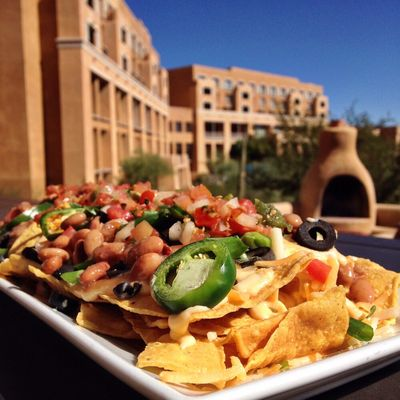burger: (296, 120, 378, 236)
sandwich: (1, 178, 398, 398)
